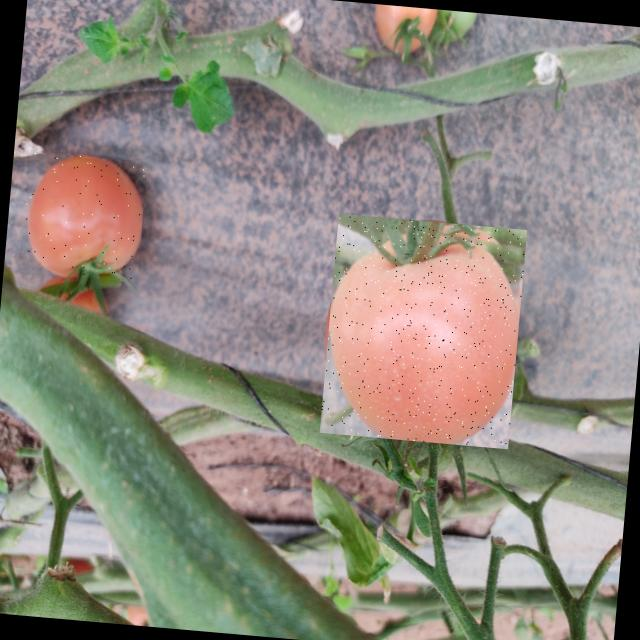Ripe Tomato: (319, 213, 526, 449), (20, 151, 147, 282)
